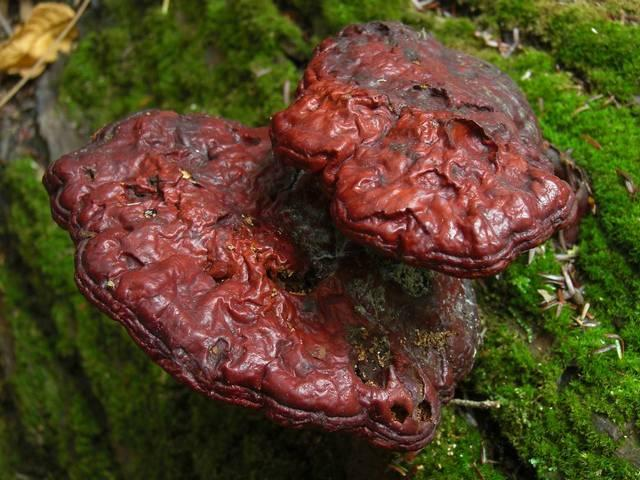Non-edible Mushroom: (34, 97, 482, 445), (268, 18, 590, 279)
